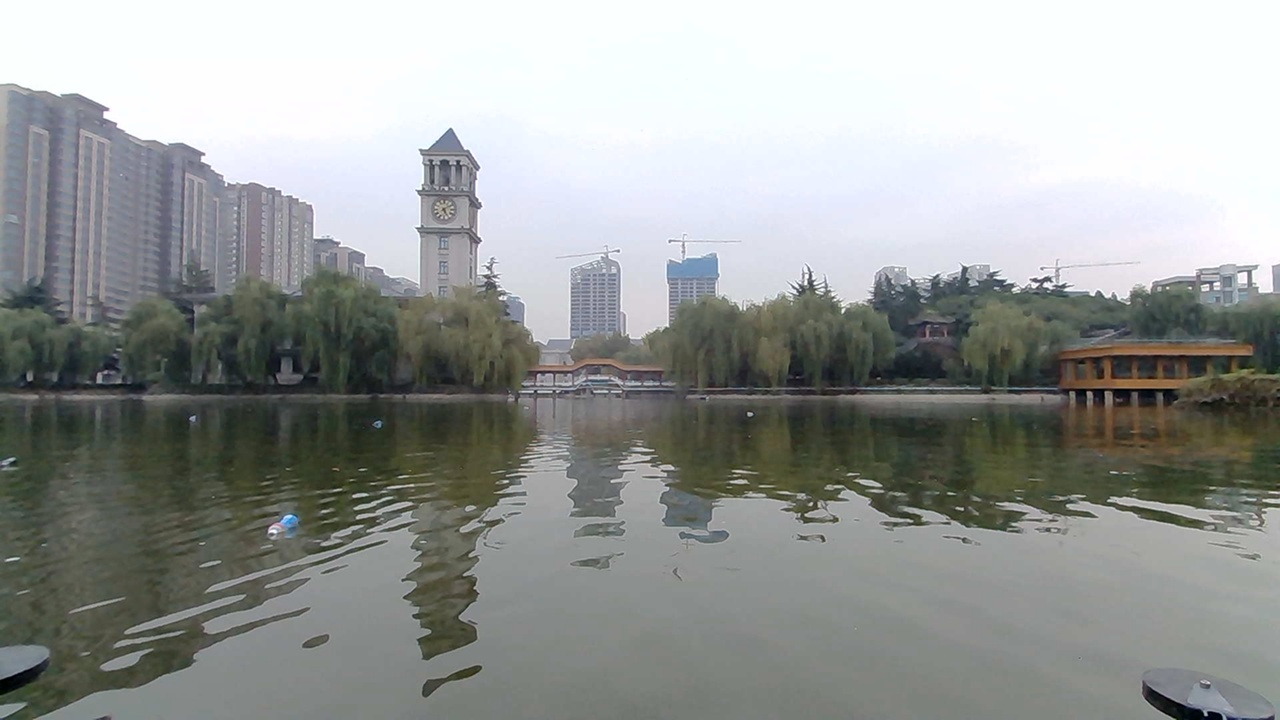bottle: (261, 512, 316, 545), (359, 407, 398, 440), (178, 403, 212, 433), (729, 405, 767, 428)
